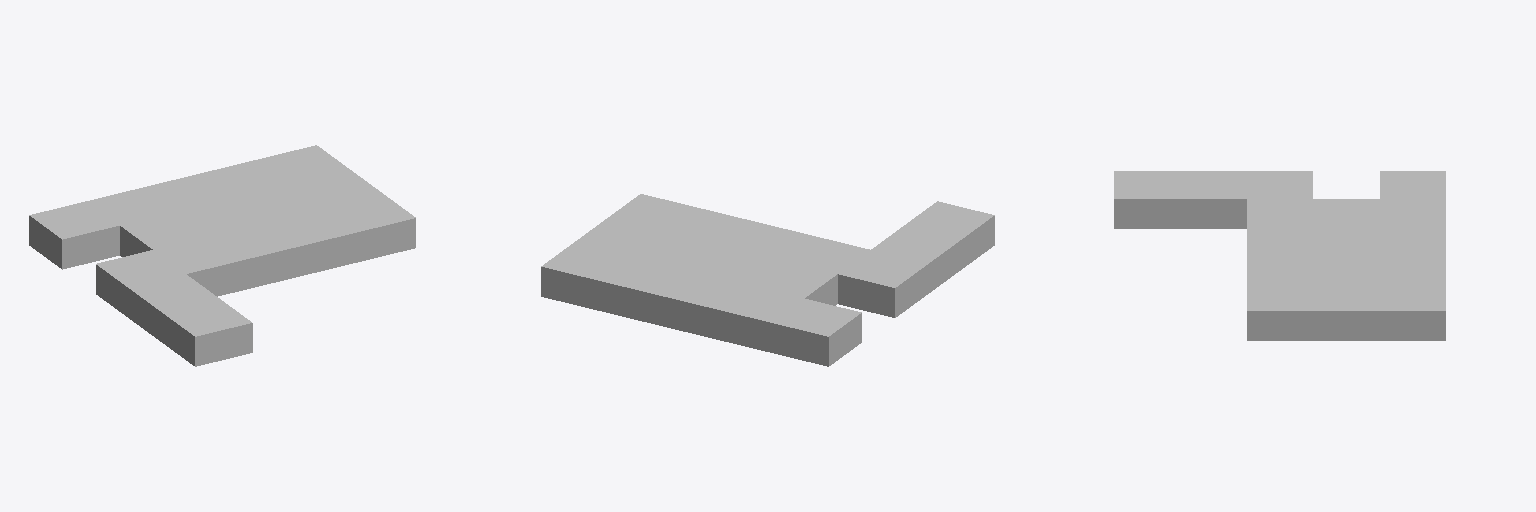
Rendered from 82s_block.obj.
The picture shows the model from 3 angles: view 1: azimuth 30°, elevation 25°; view 2: azimuth 150°, elevation 25°; view 3: azimuth 270°, elevation 25°; orthographic projection.
Visible parts, largest first — view 1: block.0.4_block.5309, block.0.0_block.5305, block.3.2_block.5316, block.2.2_block.5313, block.4.2_block.5319, block.1.2_block.5310, block.0.2_block.5307, block.0.1_block.5306, block.1.3_block.5311, block.4.3_block.5320, block.2.4_block.5315, block.3.3_block.5317 (+4 smaller); view 2: block.0.4_block.5309, block.0.2_block.5307, block.4.4_block.5321, block.2.4_block.5315, block.1.4_block.5312, block.3.4_block.5318, block.0.1_block.5306, block.0.0_block.5305, block.1.3_block.5311, block.2.3_block.5314, block.3.2_block.5316, block.4.3_block.5320 (+4 smaller); view 3: block.0.1_block.5306, block.4.3_block.5320, block.0.0_block.5305, block.4.2_block.5319, block.4.4_block.5321, block.1.3_block.5311, block.2.3_block.5314, block.3.3_block.5317, block.0.2_block.5307, block.0.4_block.5309, block.1.2_block.5310, block.1.4_block.5312 (+4 smaller).
Boxes of the visible parts, x1,y1,x2,y2 form: block.0.4_block.5309: [29, 201, 119, 269]; block.0.0_block.5305: [162, 298, 252, 366]; block.3.2_block.5316: [269, 208, 358, 275]; block.2.2_block.5313: [212, 222, 300, 289]; block.4.2_block.5319: [327, 194, 415, 261]; block.1.2_block.5310: [154, 236, 243, 296]; block.0.2_block.5307: [96, 250, 184, 317]; block.0.1_block.5306: [129, 274, 218, 341]; block.1.3_block.5311: [120, 212, 209, 256]; block.4.3_block.5320: [293, 169, 382, 207]; block.2.4_block.5315: [145, 173, 234, 210]; block.3.3_block.5317: [235, 183, 324, 221]; block.0.4_block.5309: [771, 298, 861, 366]; block.0.2_block.5307: [838, 250, 927, 317]; block.4.4_block.5321: [541, 242, 631, 310]; block.2.4_block.5315: [656, 270, 746, 338]; block.1.4_block.5312: [714, 285, 803, 352]; block.3.4_block.5318: [599, 257, 688, 324]; block.0.1_block.5306: [871, 226, 961, 293]; block.0.0_block.5305: [904, 201, 994, 268]; block.1.3_block.5311: [747, 260, 837, 305]; block.2.3_block.5314: [690, 246, 779, 283]; block.3.2_block.5316: [666, 208, 754, 245]; block.4.3_block.5320: [575, 218, 663, 255]; block.0.1_block.5306: [1180, 171, 1246, 228]; block.4.3_block.5320: [1313, 283, 1379, 340]; block.0.0_block.5305: [1114, 171, 1179, 228]; block.4.2_block.5319: [1247, 283, 1312, 340]; block.4.4_block.5321: [1380, 283, 1445, 340]; block.1.3_block.5311: [1313, 199, 1379, 226]; block.2.3_block.5314: [1313, 227, 1379, 254]; block.3.3_block.5317: [1313, 255, 1379, 282]; block.0.2_block.5307: [1247, 171, 1312, 198]; block.0.4_block.5309: [1380, 171, 1445, 198]; block.1.2_block.5310: [1247, 199, 1312, 226]; block.1.4_block.5312: [1380, 199, 1445, 226].
Bounding box in the file's own units: 10 × 1 × 10.